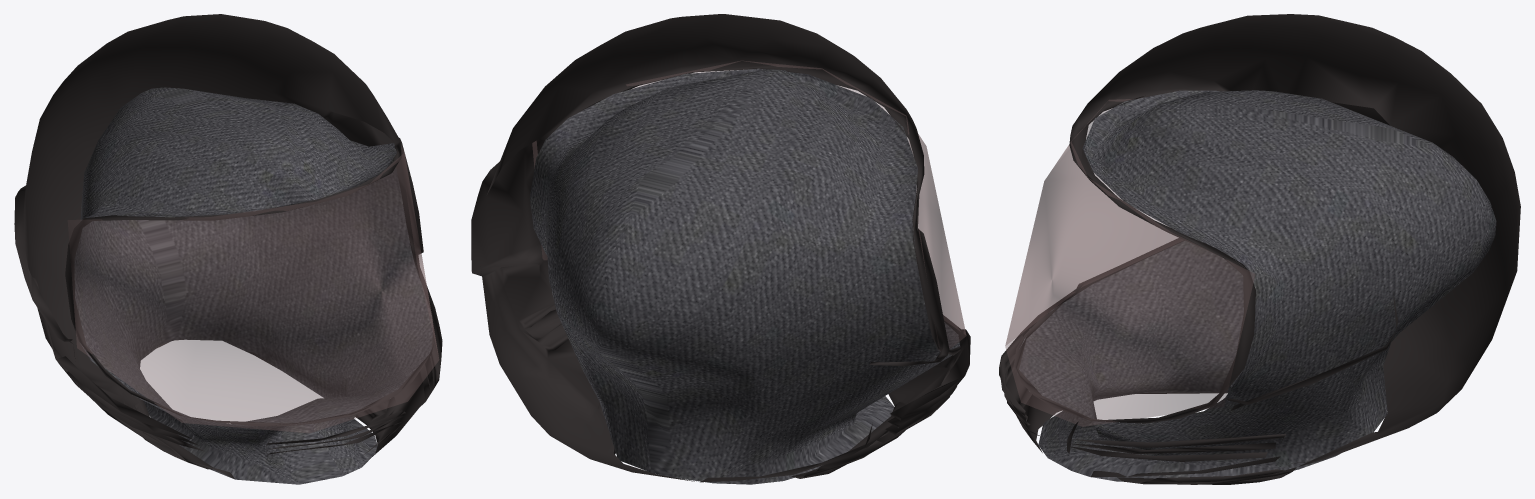
Rendered from fullface_lo.glb.
3 views of the same model, side by side, from view 1: azimuth 30°, elevation 25°; view 2: azimuth 150°, elevation 25°; view 3: azimuth 270°, elevation 25° (orthographic). The views are drawn at different scales.
Parts seen in each view (by area): view 1: Sphere.004, Sphere.001, Sphere; view 2: Sphere.004, Sphere, Sphere.001; view 3: Sphere.004, Sphere, Sphere.001.
Part boxes in pixels (x1,y1,x2,y2): Sphere.004: (74, 87, 432, 484); Sphere.001: (68, 146, 439, 432); Sphere: (14, 14, 442, 479); Sphere.004: (529, 68, 959, 484); Sphere: (471, 14, 970, 482); Sphere.001: (532, 61, 966, 351); Sphere.004: (1019, 90, 1496, 481); Sphere: (999, 14, 1520, 484); Sphere.001: (1005, 99, 1255, 426).
Bounding box in the file's own units: 8.5 × 8.12 × 9.52.
3 materials, 1 textured.
